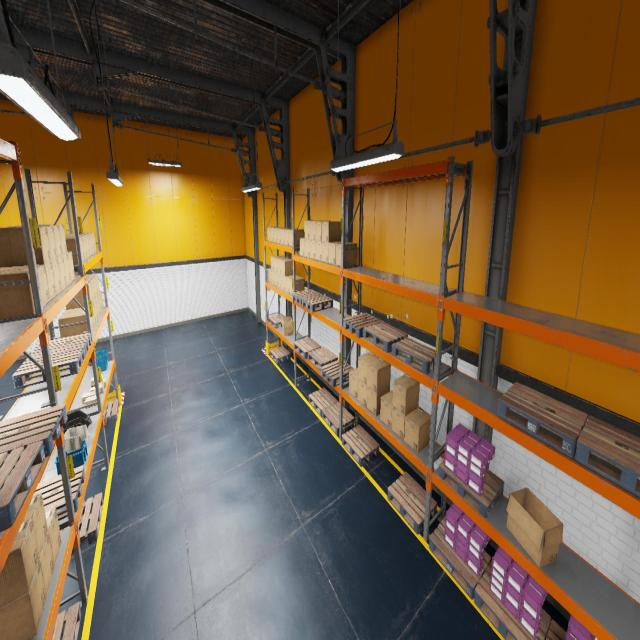box: (506, 488, 563, 567), (0, 560, 46, 640), (0, 518, 39, 608), (0, 226, 51, 268), (0, 264, 50, 306), (0, 268, 35, 319), (8, 226, 57, 261), (23, 492, 48, 558), (15, 224, 62, 258), (404, 406, 431, 454), (392, 374, 420, 415), (45, 507, 61, 567), (37, 224, 67, 255), (40, 532, 54, 598), (391, 406, 418, 440), (366, 357, 391, 393), (58, 311, 87, 338), (62, 307, 94, 331), (66, 282, 93, 310), (366, 386, 390, 416), (358, 352, 379, 384), (65, 233, 92, 256), (65, 235, 90, 258), (65, 235, 87, 260), (68, 233, 94, 254), (380, 389, 393, 429), (75, 274, 99, 295), (65, 236, 85, 261), (336, 242, 356, 267), (72, 232, 96, 252), (328, 241, 348, 265), (45, 262, 56, 300), (322, 221, 341, 242), (51, 259, 62, 294), (65, 238, 79, 264), (316, 220, 334, 240), (357, 379, 367, 407), (349, 368, 358, 399), (58, 256, 66, 290), (289, 276, 304, 294), (304, 220, 318, 239), (63, 253, 71, 286), (289, 229, 304, 246), (86, 276, 97, 299), (285, 275, 299, 293), (67, 252, 75, 282), (281, 259, 295, 276), (277, 258, 291, 274), (281, 228, 295, 244), (86, 278, 95, 302), (274, 256, 287, 272), (282, 316, 292, 336), (81, 391, 96, 404), (270, 227, 283, 242), (271, 255, 283, 271), (284, 229, 296, 245), (277, 228, 289, 244), (90, 381, 104, 394), (267, 226, 277, 242), (85, 395, 97, 408), (322, 241, 328, 263), (273, 228, 282, 242), (91, 374, 103, 384), (94, 378, 107, 387), (304, 239, 310, 258), (316, 240, 321, 260), (310, 220, 315, 240), (310, 239, 315, 259), (92, 303, 96, 327), (94, 300, 98, 322), (96, 296, 100, 318), (98, 293, 102, 314), (100, 290, 104, 310), (300, 237, 304, 256), (281, 275, 285, 291), (274, 272, 278, 287), (278, 273, 281, 289), (271, 270, 274, 285), (268, 268, 271, 283)
pallets: (497, 382, 588, 457), (474, 560, 551, 640), (574, 415, 640, 496), (429, 516, 491, 600), (0, 403, 67, 468), (0, 440, 45, 531), (438, 459, 504, 518), (12, 346, 85, 390), (387, 472, 437, 534), (33, 465, 85, 520), (60, 493, 103, 554), (392, 337, 441, 374), (342, 424, 379, 466), (30, 333, 92, 356), (363, 322, 408, 352), (52, 602, 81, 640), (322, 402, 354, 435), (343, 312, 383, 338), (320, 360, 354, 387), (308, 388, 338, 417), (308, 346, 338, 370), (294, 337, 321, 359), (301, 294, 333, 312), (292, 289, 321, 305), (104, 398, 120, 426), (546, 620, 566, 640), (269, 346, 290, 364), (268, 314, 284, 328)
